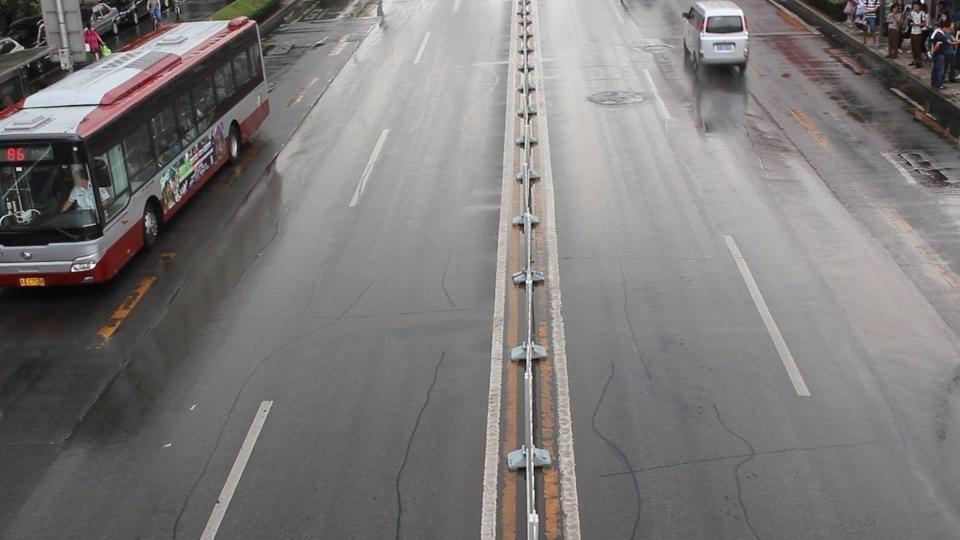car: (680, 1, 751, 75), (0, 16, 46, 54)
